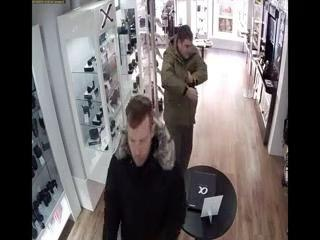shoplifting: (168, 64, 204, 102)
